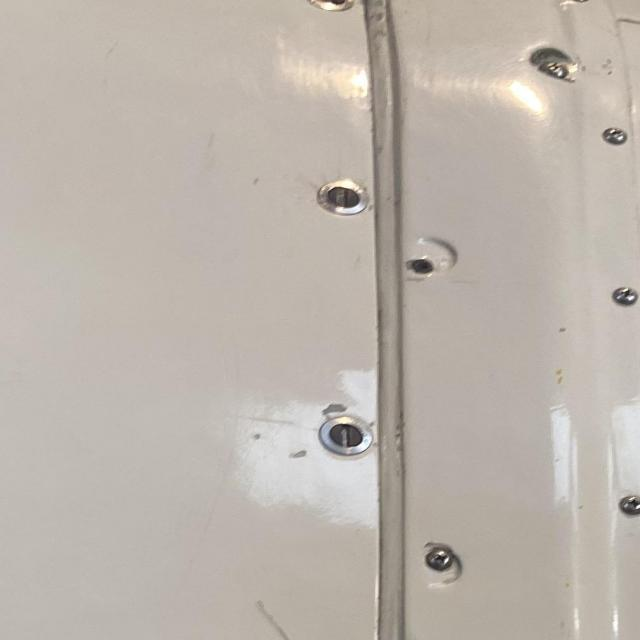Missing-head: (402, 252, 453, 279)
Paint-off: (237, 417, 333, 478), (322, 396, 357, 417)
Scratch: (253, 600, 291, 640)
